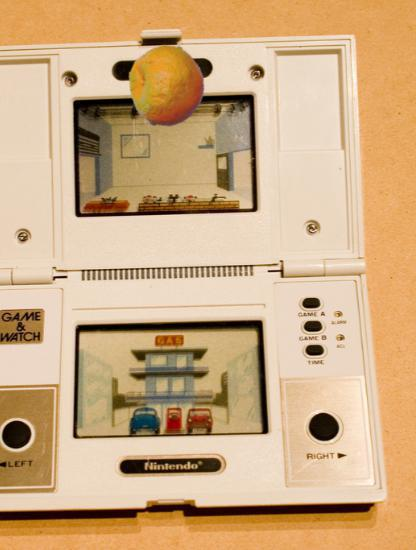Mandarine: (124, 44, 208, 128)
